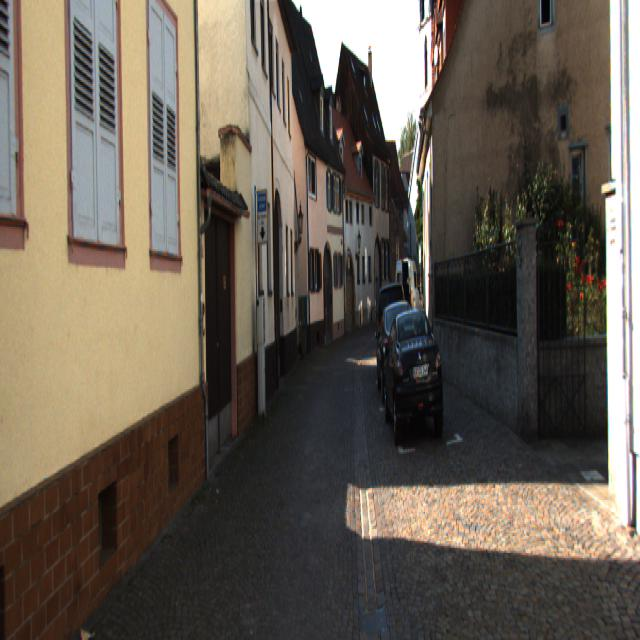Car: (381, 302, 446, 440), (376, 297, 419, 406), (375, 280, 408, 380), (396, 254, 422, 325)
